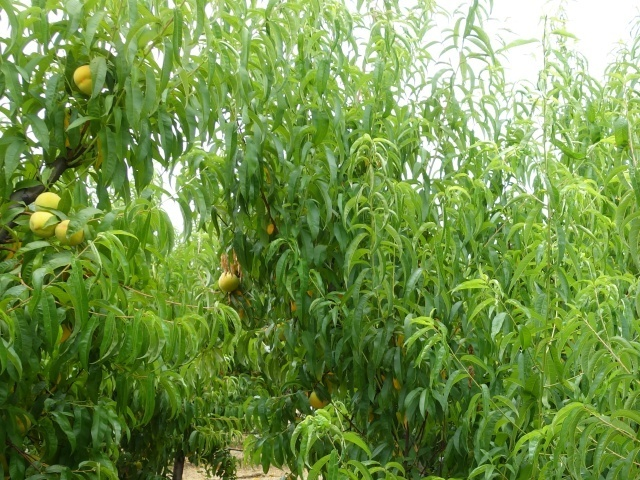peach: (68, 60, 101, 100), (25, 205, 60, 239), (50, 218, 87, 249), (32, 188, 67, 220), (213, 270, 241, 296), (305, 389, 329, 413)
